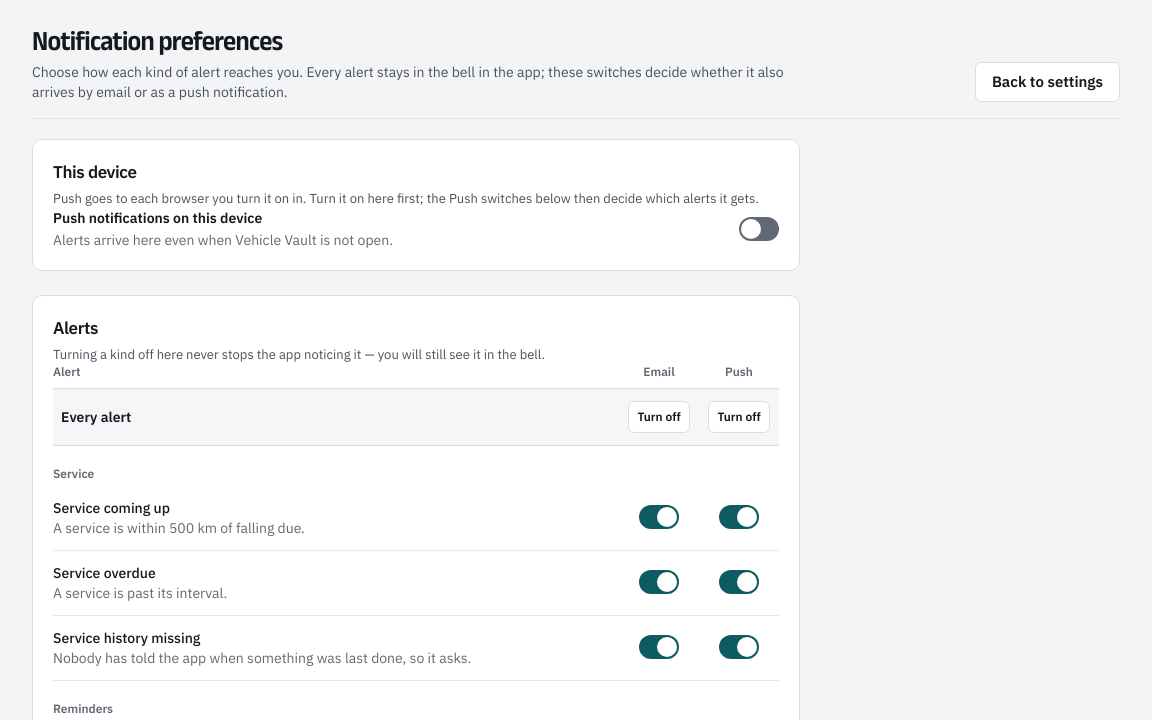
Scenario: NotificationPreferencesPage › saves one switch, moves it straight away and says when it is saved
The image size is (1152, 720).
Click the switch named "Service overdue by email".
click(659, 582)  # box [639, 570, 679, 594]
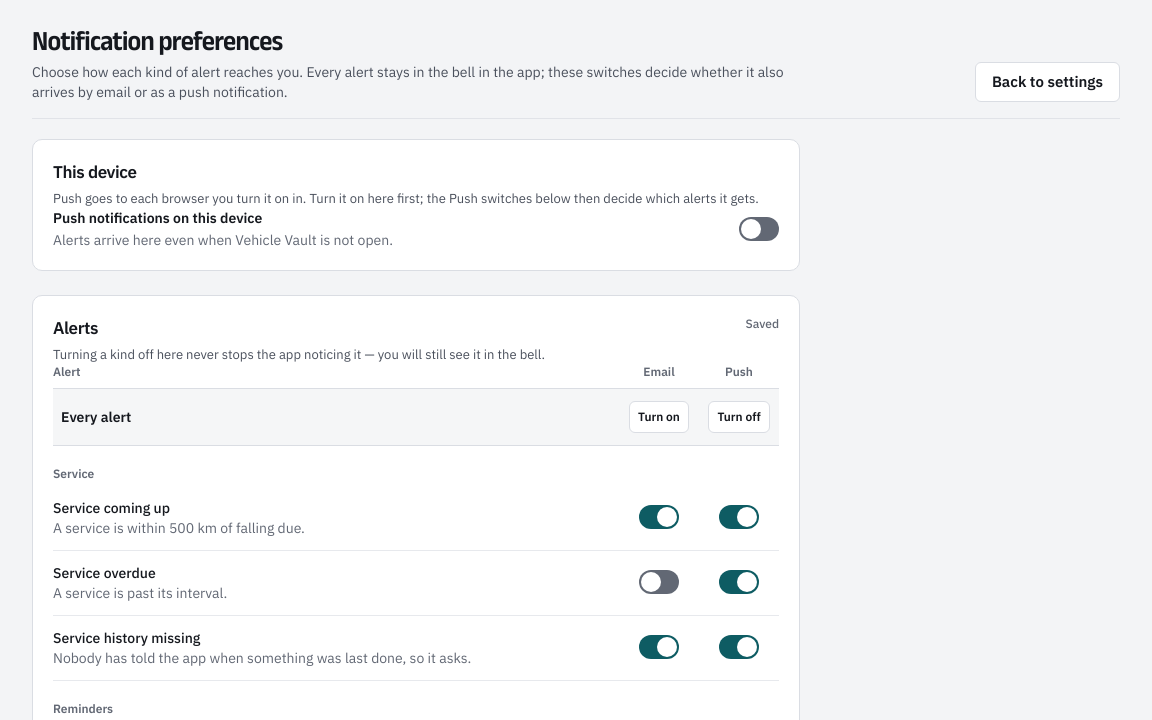
Result: the text "Saved" is shown at [746, 316, 779, 332]
